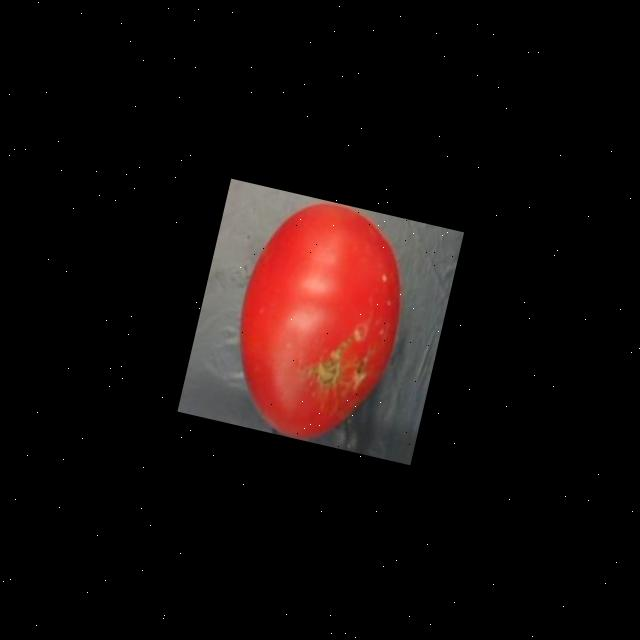tomato: (210, 185, 426, 452)
